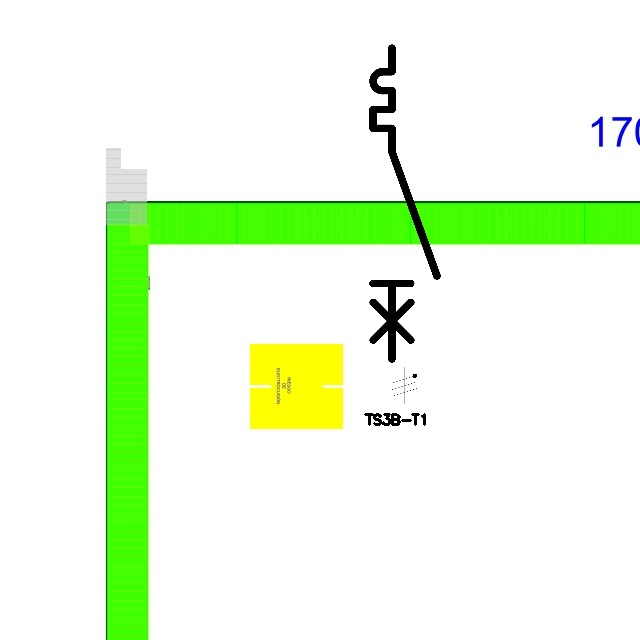interruptor_termomagnetico: (365, 40, 445, 366)
